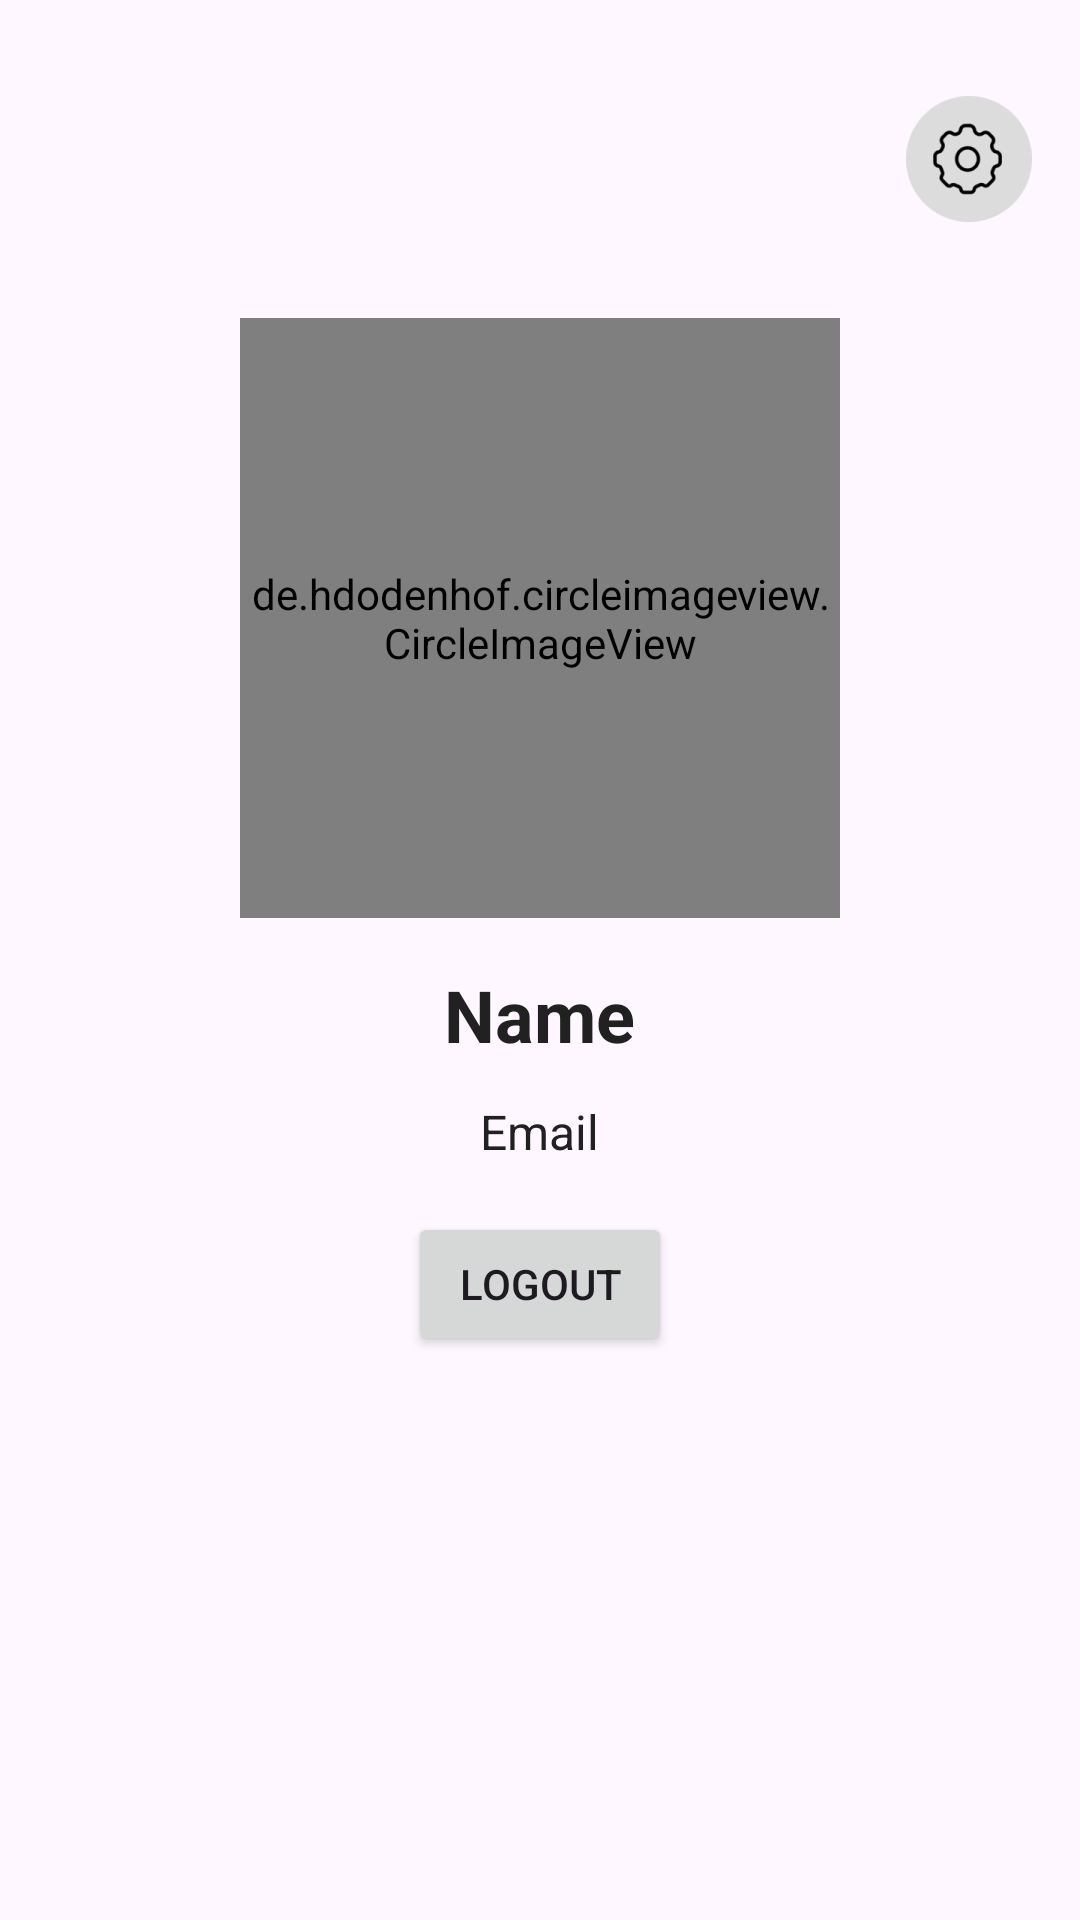

Where icons sit on this 1080x1920 app screen, as (x1, y1, x2, y2):
setting: (906, 96, 1032, 222)
